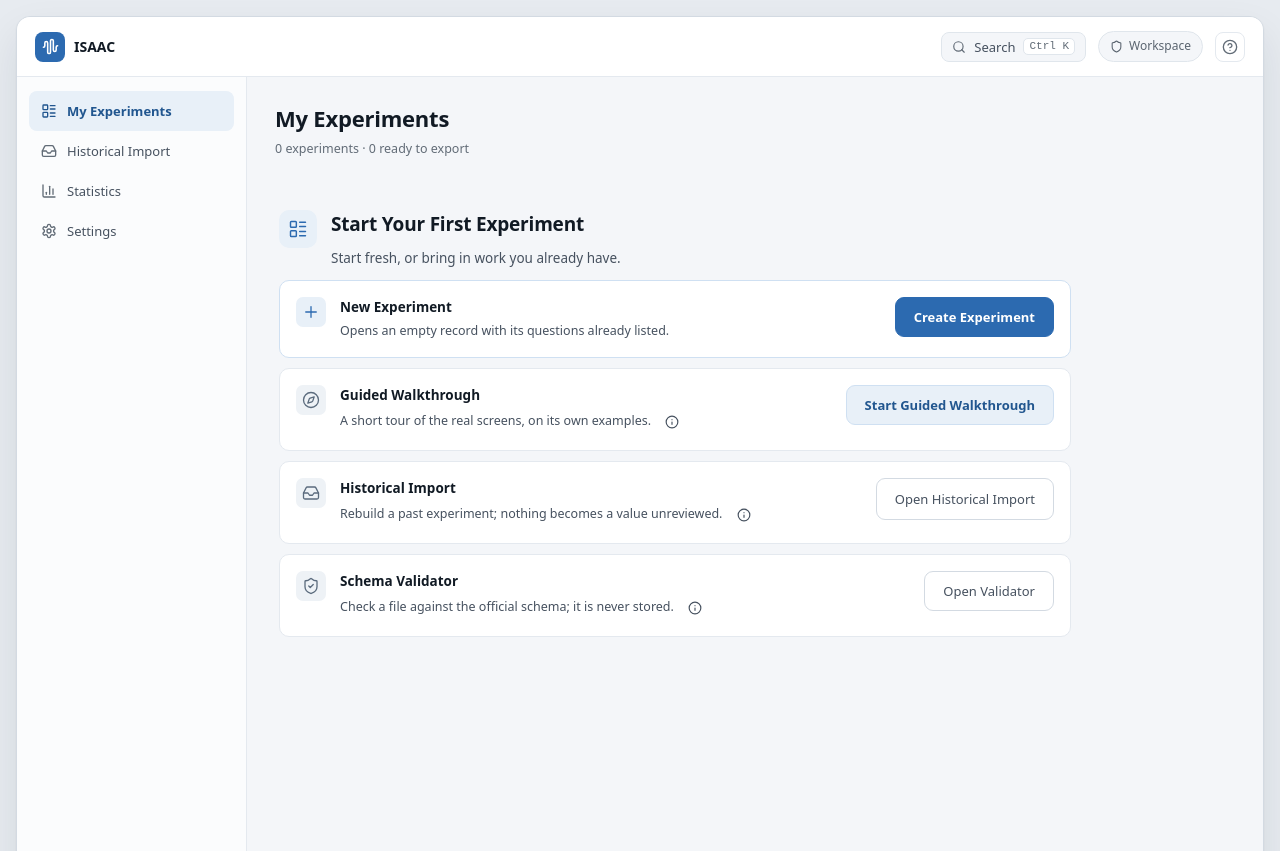
D2 · the walkthrough navigates on a step change, not continuously › the worked-example bar’s "Open the Worked Example" button actually opens it
Click the button "Start Guided Walkthrough" at (950, 405), box 846,385 -> 1054,425
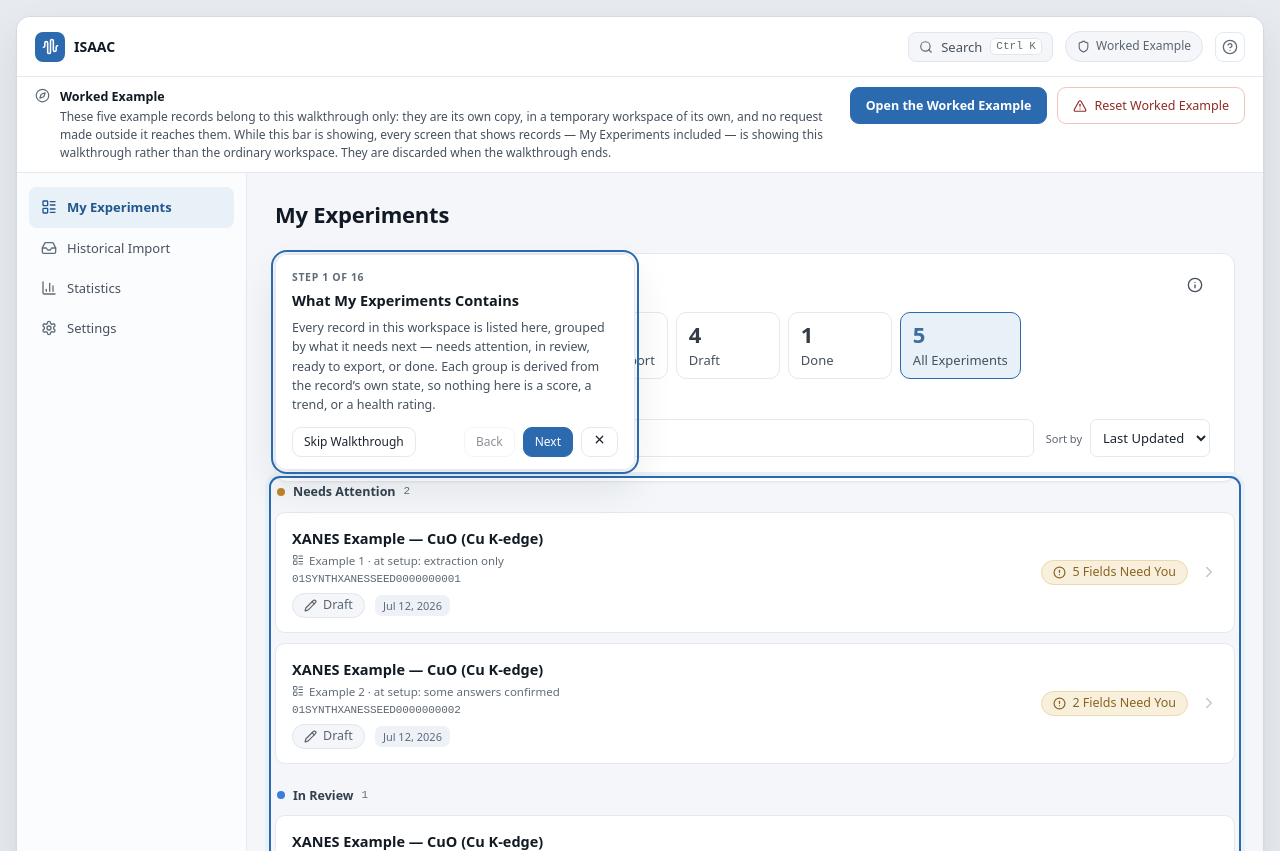
Expected: the element with class "tutorial-session-bar" is shown, 17,77 -> 1263,173
Click the button "Open the Worked Example" at (949, 106), box 850,87 -> 1047,124
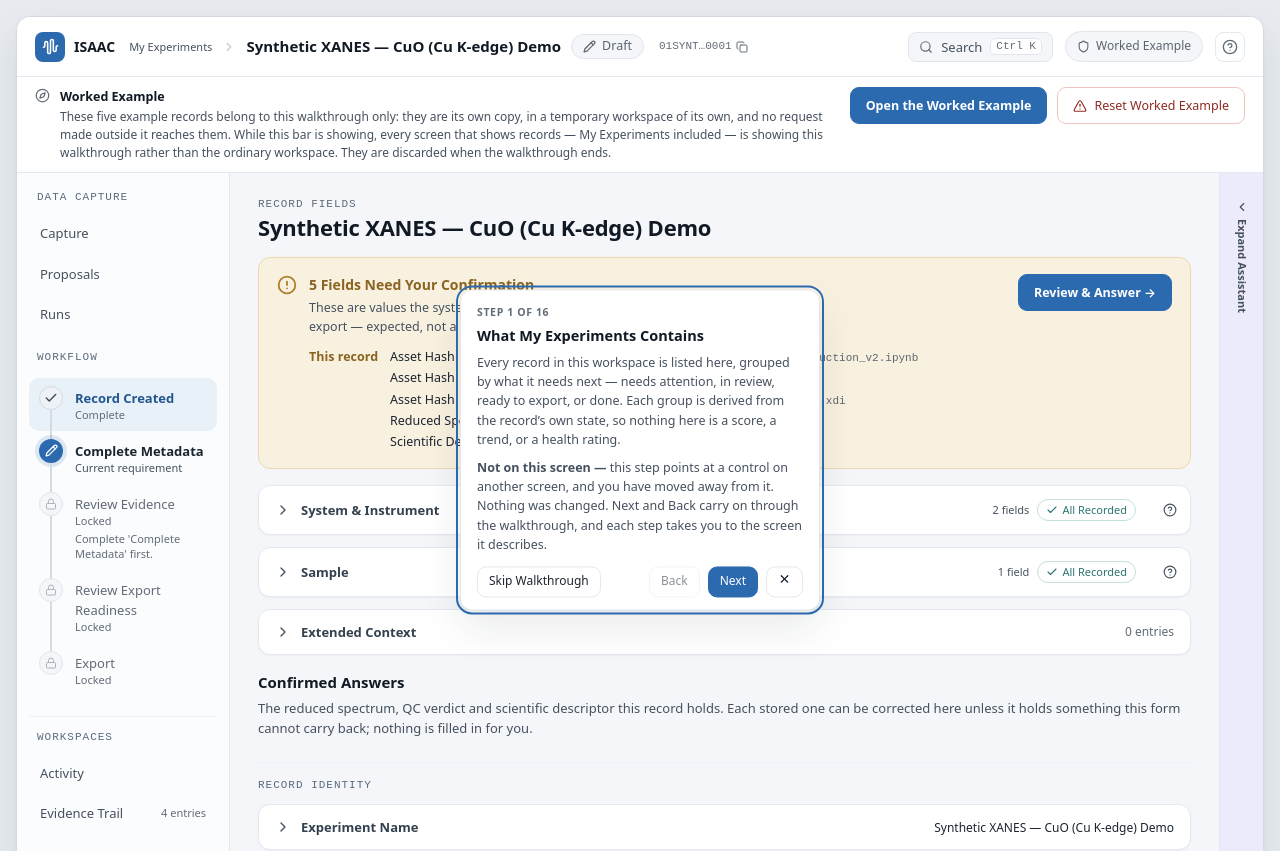
Expected: the element with class "tutorial-session-bar" is shown, 17,77 -> 1263,173
Expected: the text "5 Fields Need Your Confirmation" is shown, 309,275 -> 534,294
